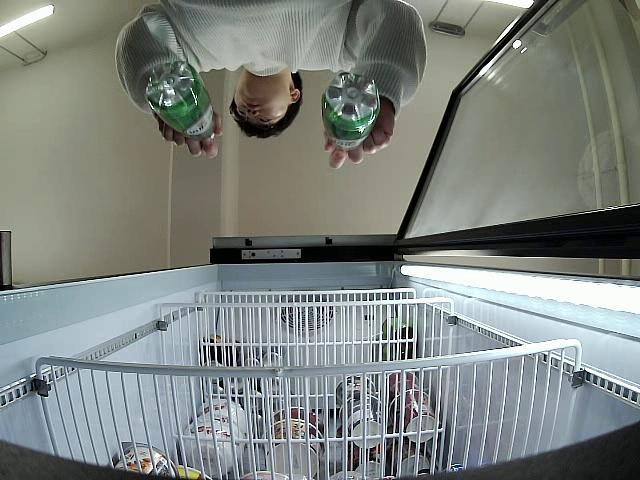18_trevi: (145, 61, 217, 143), (320, 71, 380, 148)
